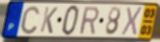0: (61, 4, 80, 37)
8: (104, 7, 122, 37)
C: (20, 5, 42, 36)
K: (39, 6, 59, 35)
R: (78, 5, 100, 36)
X: (120, 6, 144, 38)
